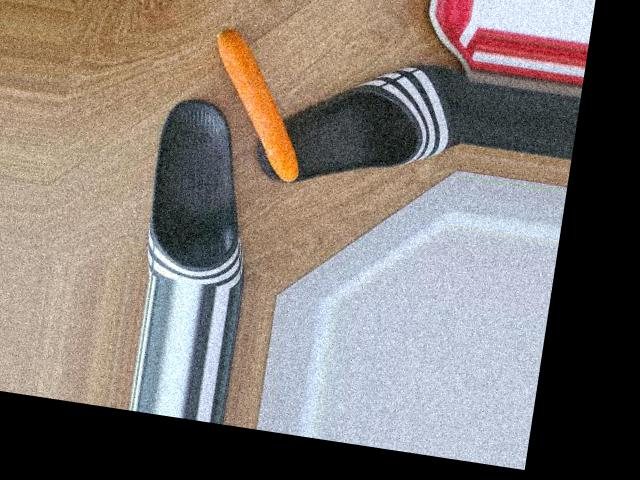carrot: (195, 30, 314, 183)
